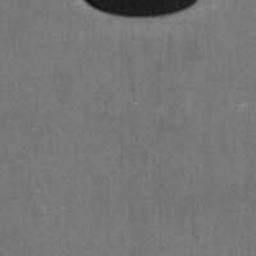Punching: (85, 0, 197, 17)
